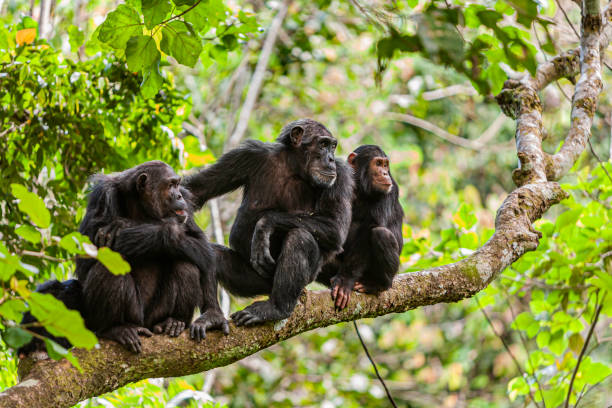chimpanzee: (347, 135, 410, 206)
